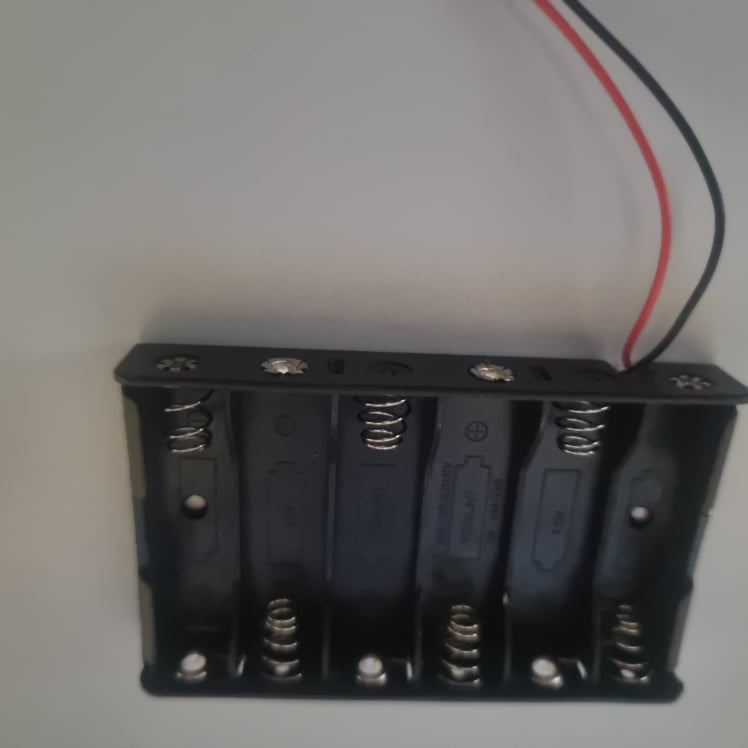BATTERY BOX: (116, 344, 748, 705)
